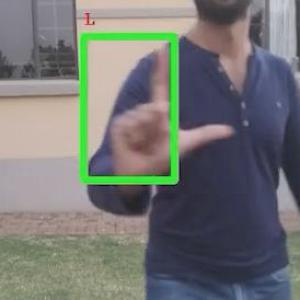land_hand: (102, 41, 236, 164)
